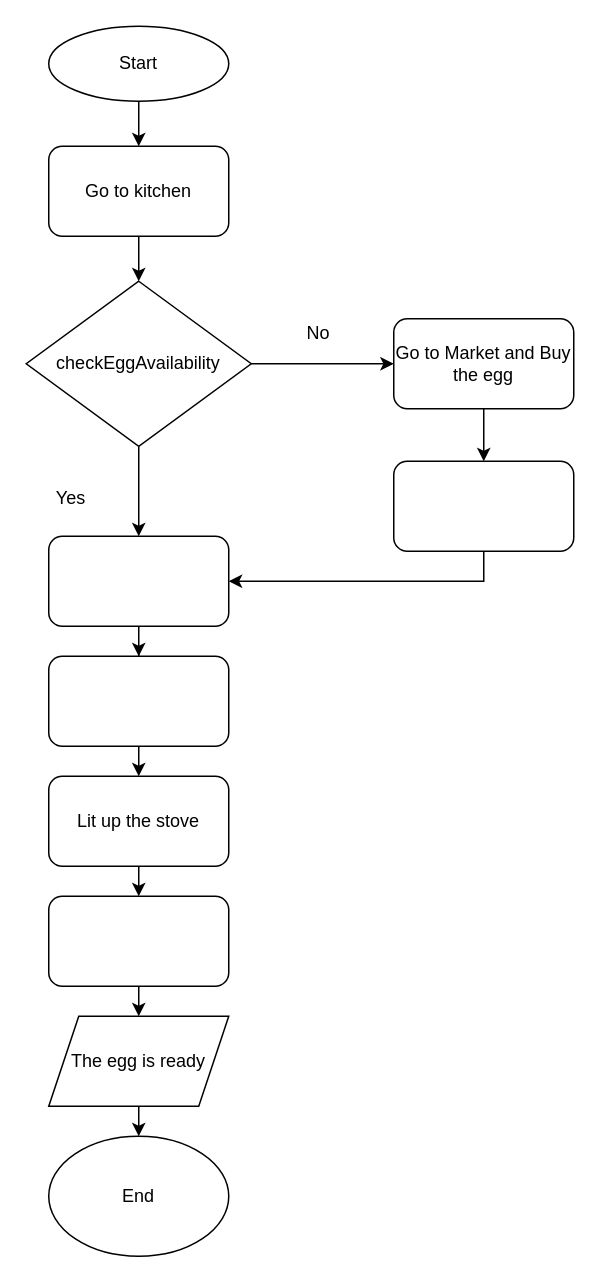
Image size: 600x1283. Some labels were removed from this diagram. The box of each missing label's shape, as (x1, y1, x2, y2) in pixels:
Cook the egg: (47, 895, 229, 986)
Go back to home: (392, 460, 574, 551)
Pour the oil: (47, 655, 229, 746)
Prepare the fryer: (47, 535, 229, 626)
